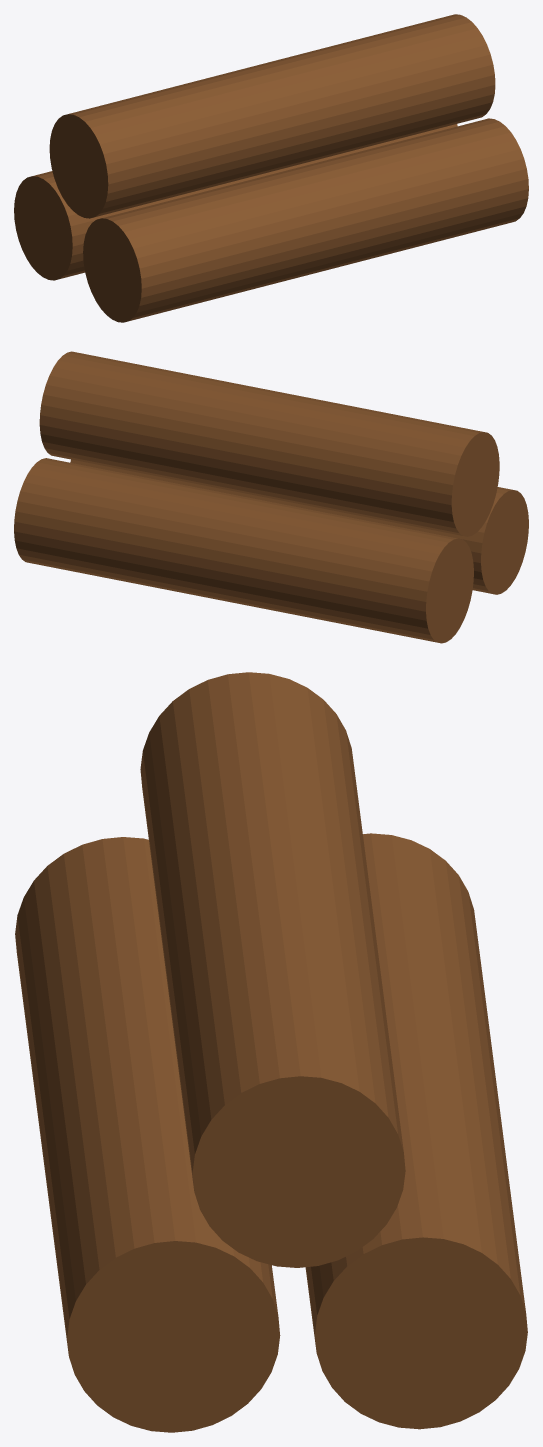
Rendered from obstacle2.fbx.
3 views of the same model, one above another, from view 1: azimuth 30°, elevation 25°; view 2: azimuth 150°, elevation 25°; view 3: azimuth 270°, elevation 25° (orthographic). The views are drawn at different scales.
Parts seen in each view (by area): view 1: 실린더.002; view 2: 실린더.002; view 3: 실린더.002.
Part boxes in pixels (x1=…): 실린더.002: x1=14, y1=14, x2=528, y2=322; 실린더.002: x1=14, y1=351, x2=528, y2=643; 실린더.002: x1=15, y1=672, x2=527, y2=1432.
Size of the model in its own units: 890 by 387 by 481.
